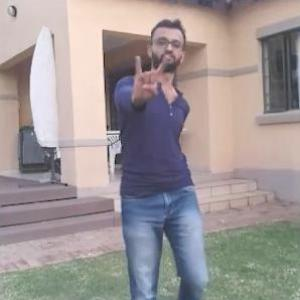takeoff-hand: (130, 50, 168, 103)
